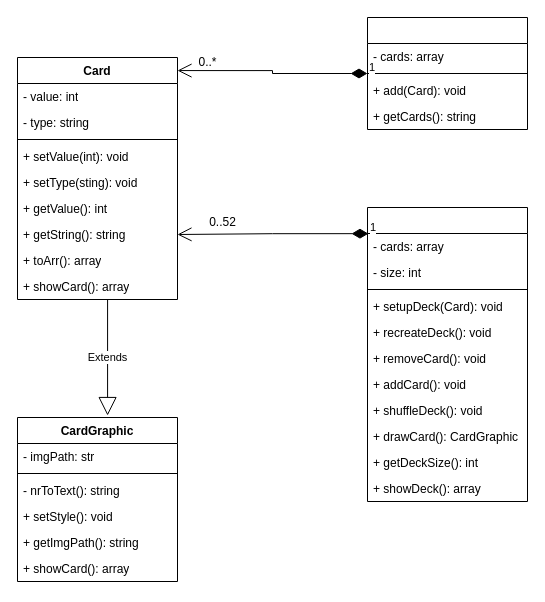
This 545x602 diagram has some shape labels left out. Here are the shapes that lost their labels. From the top down, the box of each, then its label:
(366, 16, 528, 130): CardHand
(366, 206, 528, 502): DeckOfCards
